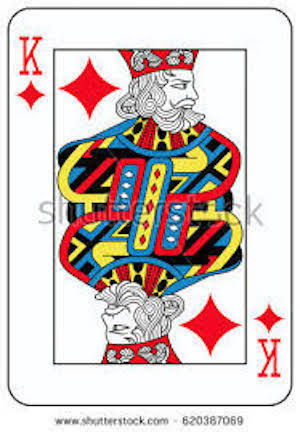KingOfDiamonds: (2, 7, 296, 411)
